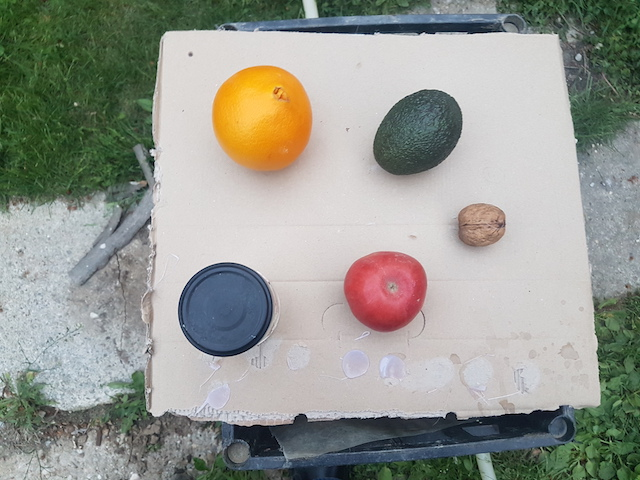apple: (340, 246, 429, 333)
avocado: (371, 86, 465, 176)
nut: (454, 204, 508, 247)
orange: (208, 61, 317, 173)
recipient: (175, 261, 276, 356)
